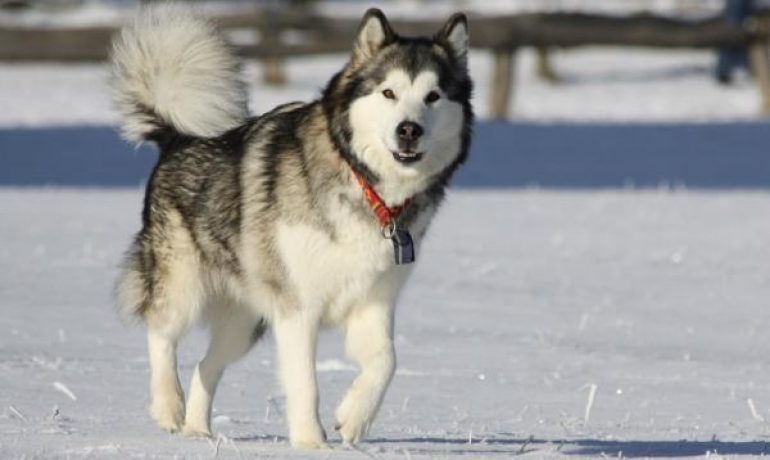husky: (112, 7, 490, 440)
